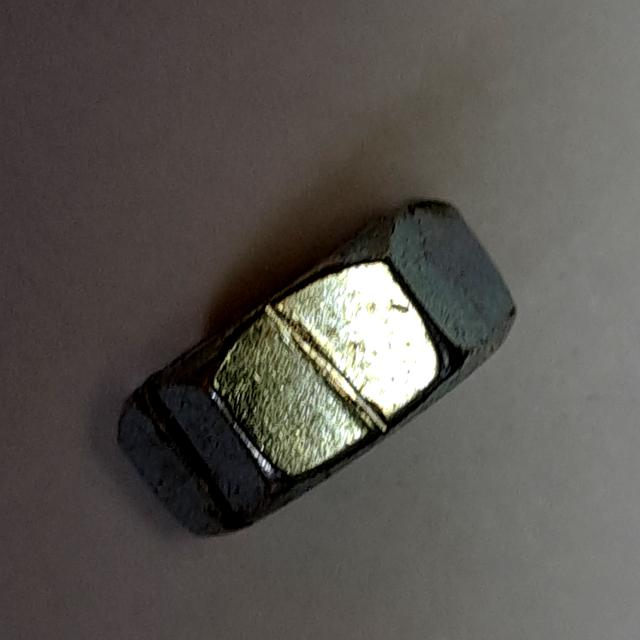Side_Scratches: (107, 192, 538, 559)
